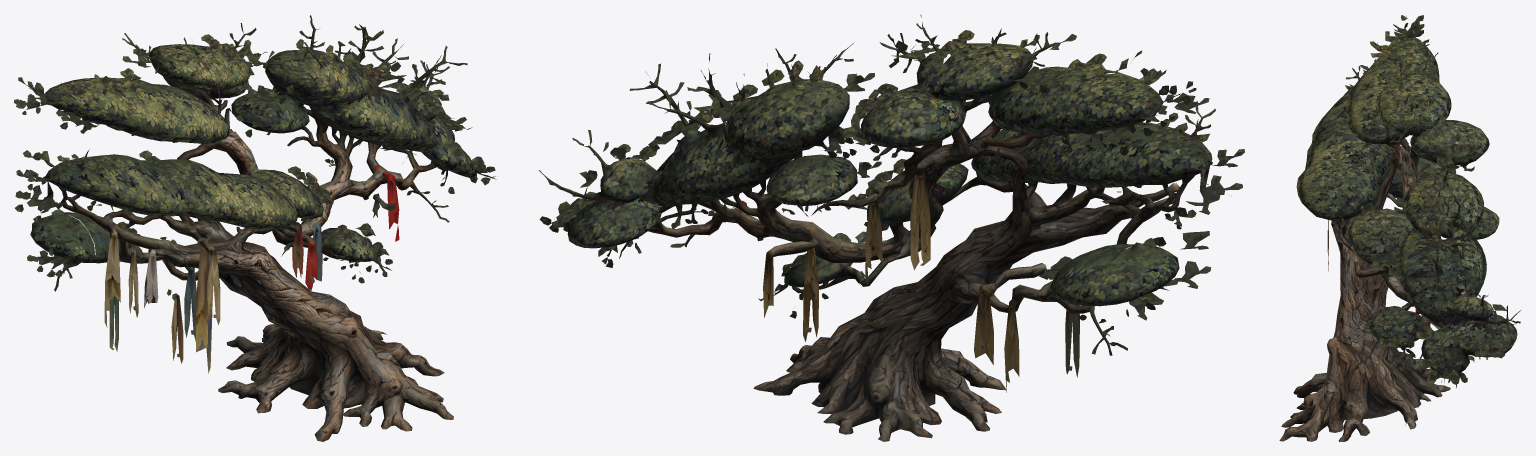
The model's file is act1_kit_v1_R24_ribbon_thorn.glb.
The picture shows the model from 3 angles, left to right: view 1: azimuth 30°, elevation 25°; view 2: azimuth 150°, elevation 25°; view 3: azimuth 270°, elevation 25°; orthographic projection. The views are drawn at different scales.
Visible parts, largest first — view 1: tripo_9fd41b00_0473_421a_a013_09bea64c99bb; view 2: tripo_9fd41b00_0473_421a_a013_09bea64c99bb; view 3: tripo_9fd41b00_0473_421a_a013_09bea64c99bb.
Part boxes in pixels (bbox=[...]): tripo_9fd41b00_0473_421a_a013_09bea64c99bb: bbox=[14, 15, 497, 441]; tripo_9fd41b00_0473_421a_a013_09bea64c99bb: bbox=[539, 14, 1244, 441]; tripo_9fd41b00_0473_421a_a013_09bea64c99bb: bbox=[1279, 15, 1520, 441].
Size of the model in its own units: 0.9995 by 0.6987 by 0.5063.
Materials: 1 (1 with a texture image).
